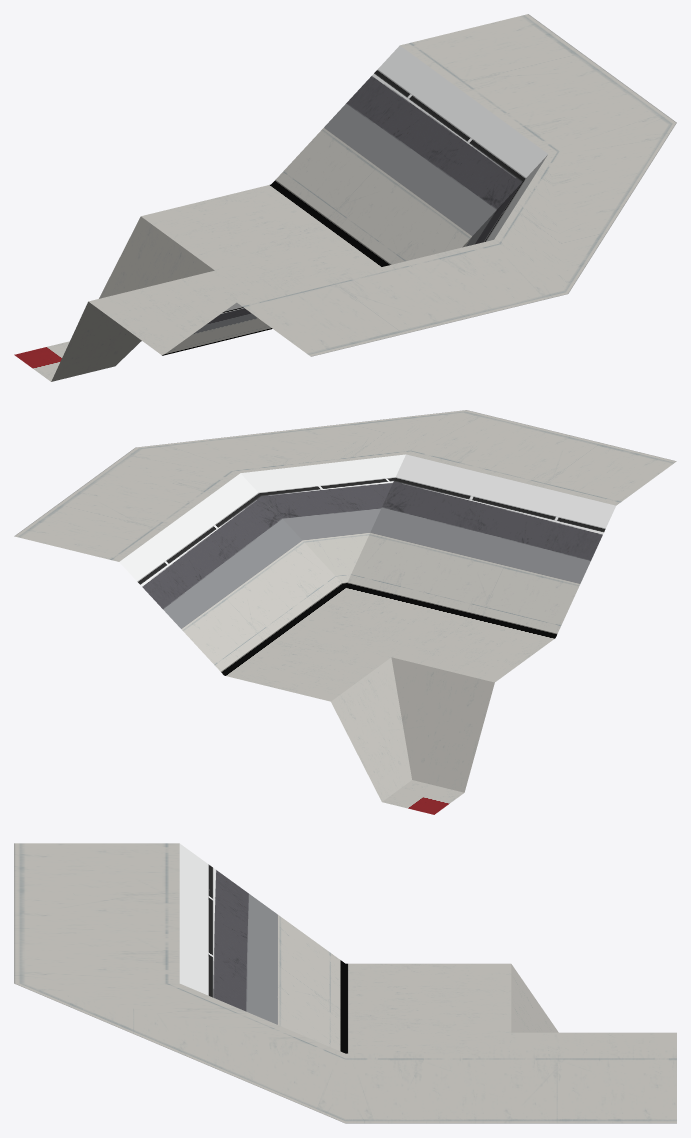
File: G_Env_Arch_Ceiling_00_Rounded.fbx
3 views of the same model, one above another, from view 1: azimuth 30°, elevation 25°; view 2: azimuth 150°, elevation 25°; view 3: azimuth 270°, elevation 25° (orthographic). The views are drawn at different scales.
Visible parts, largest first — view 1: G_Env_Arch_Ceiling_00_Rounded; view 2: G_Env_Arch_Ceiling_00_Rounded; view 3: G_Env_Arch_Ceiling_00_Rounded.
Boxes of the visible parts, left/top/right/bottom form: G_Env_Arch_Ceiling_00_Rounded: left=14, top=14, right=676, bottom=381; G_Env_Arch_Ceiling_00_Rounded: left=14, top=410, right=676, bottom=814; G_Env_Arch_Ceiling_00_Rounded: left=14, top=843, right=676, bottom=1123.
Size of the model in its own units: 1000 by 400 by 1000.
